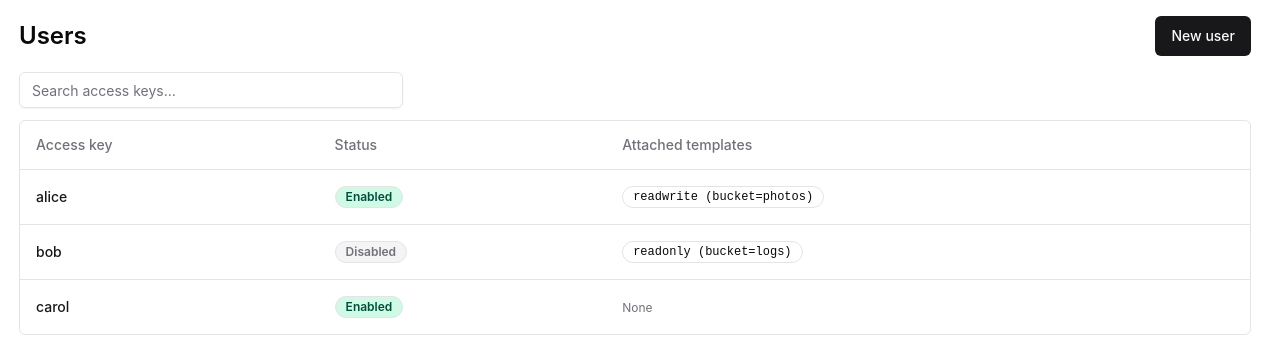
Test: UserListPage › search input filters rows by access key
The width and height of the screenshot is (1268, 352).
Expected: the button "alice" is shown, [36,186,67,206]
In the field named "search users": (211, 90) [19,72,403,108], type "ali"
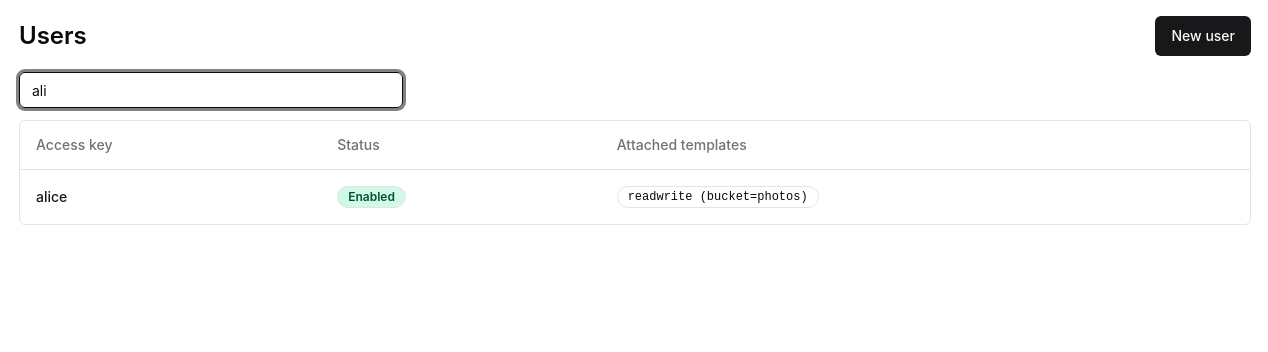
Expected: the button "alice" is shown, [36,186,67,206]
Result: the button "bob" is gone
Result: the button "carol" is gone
